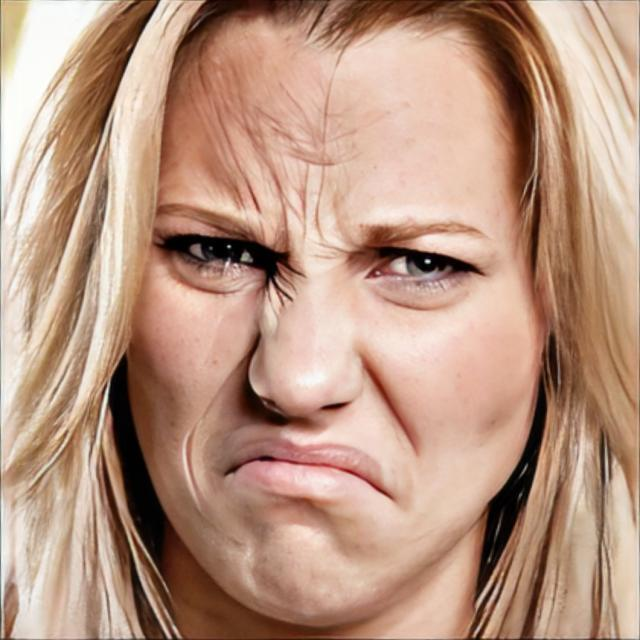disgust: (124, 4, 547, 628)
